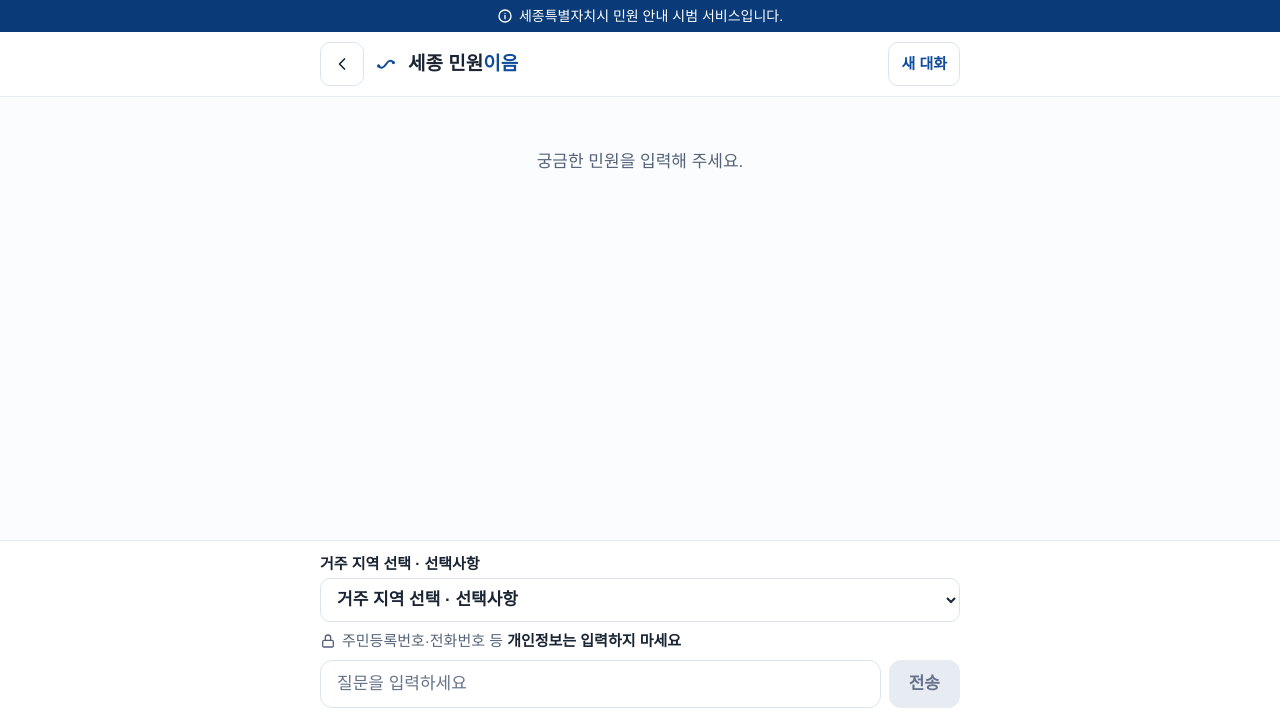
citizen chat screen › renders a template official answer with its source, office metadata and generated request shape
The width and height of the screenshot is (1280, 720).
Type "이사했는데 전입신고 어떻게 해요?" into the field named "질문 입력" at (600, 684), box left=320, top=660, right=881, bottom=708
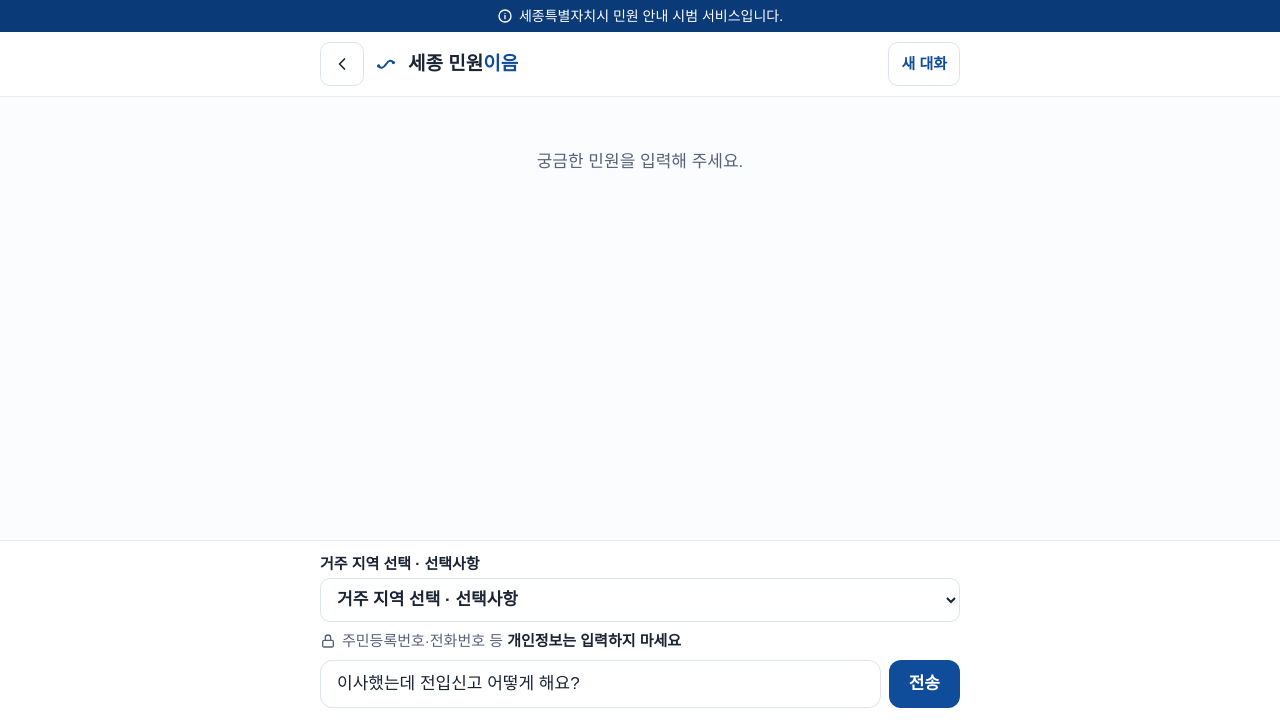
Click the button "전송" at (924, 684), box left=889, top=660, right=960, bottom=708
(page scrolled)
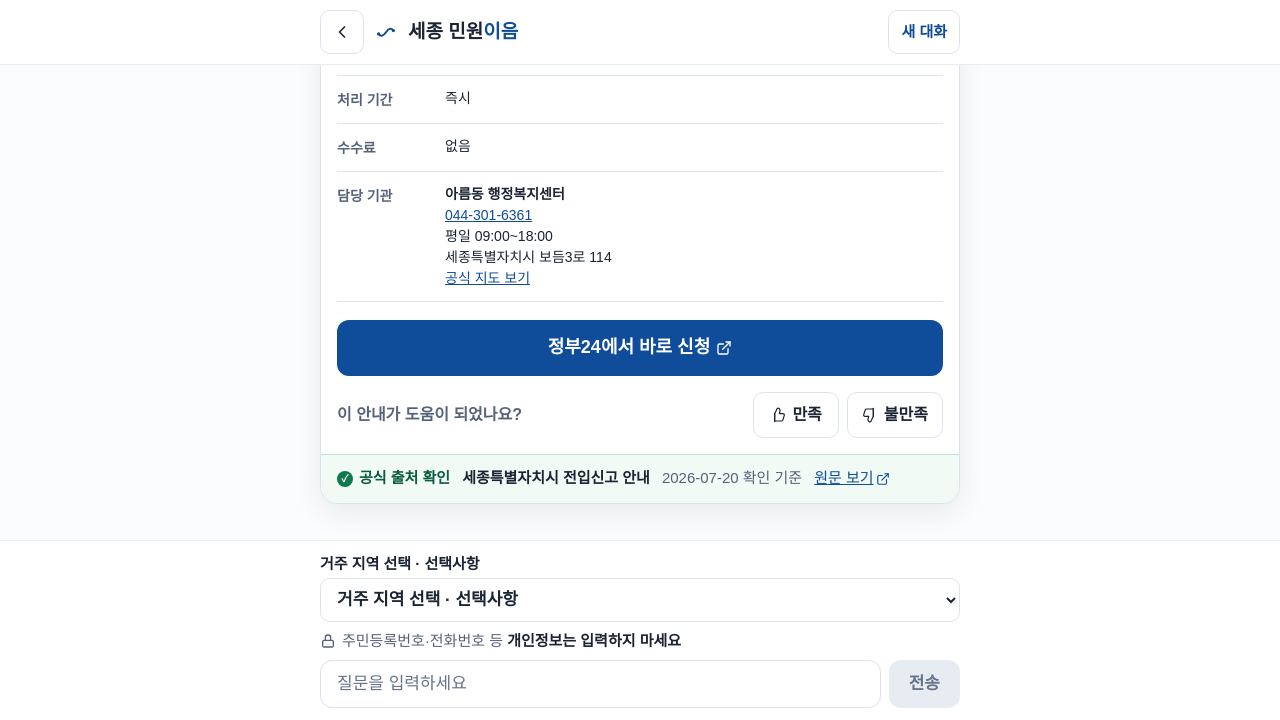
Expected: the list item "신분증" is shown, left=445, top=42, right=484, bottom=58
Expected: the text "세종특별자치시 전입신고 안내" is shown, left=462, top=467, right=650, bottom=490
Expected: the text "2026-07-20 확인 기준" is shown, left=662, top=467, right=802, bottom=490
